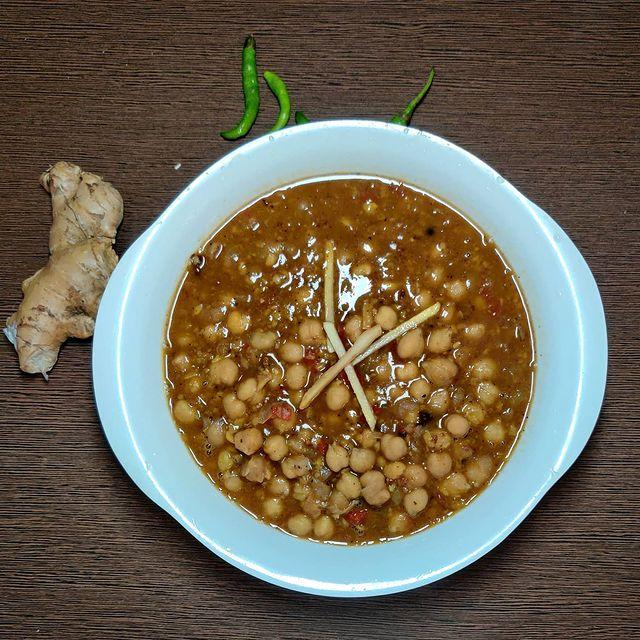Chole: (216, 302, 494, 526)
